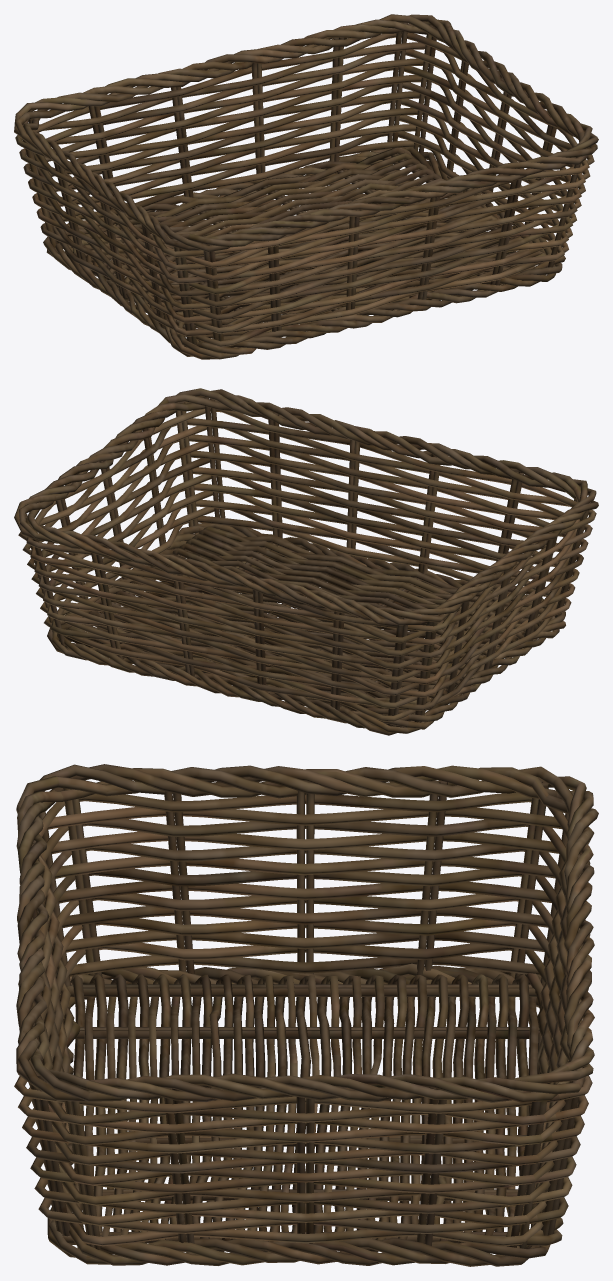
The model's file is decor__6.glb.
The picture shows the model from 3 angles, top to bottom: view 1: azimuth 30°, elevation 25°; view 2: azimuth 150°, elevation 25°; view 3: azimuth 270°, elevation 25°; orthographic projection. The views are drawn at different scales.
Visible parts, largest first — view 1: wicker_basket_01.002; view 2: wicker_basket_01.002; view 3: wicker_basket_01.002.
Part boxes in pixels (left/top/right/bottom): wicker_basket_01.002: left=14, top=14, right=598, bottom=359; wicker_basket_01.002: left=14, top=388, right=598, bottom=735; wicker_basket_01.002: left=14, top=764, right=598, bottom=1266.
Size of the model in its own units: 0.24 by 0.0735 by 0.1848.
Materials: 1 (1 with a texture image).
